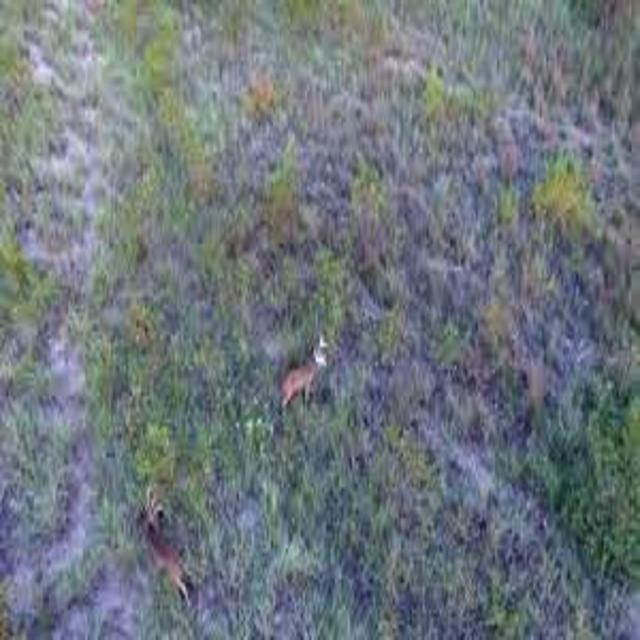deer: (252, 315, 369, 443)
